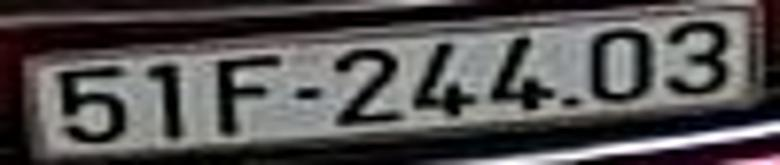-: (294, 82, 319, 105)
.: (558, 90, 584, 113)
0: (586, 27, 653, 102)
1: (138, 61, 189, 144)
2: (331, 44, 404, 126)
3: (664, 17, 728, 100)
4: (489, 35, 556, 116), (412, 42, 476, 118)
5: (58, 62, 131, 145)
F: (215, 52, 281, 134)
